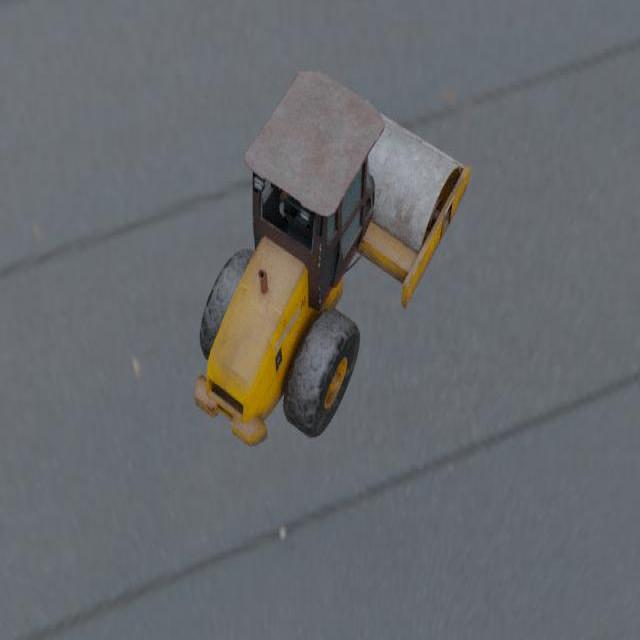Roller: (193, 69, 471, 447)
